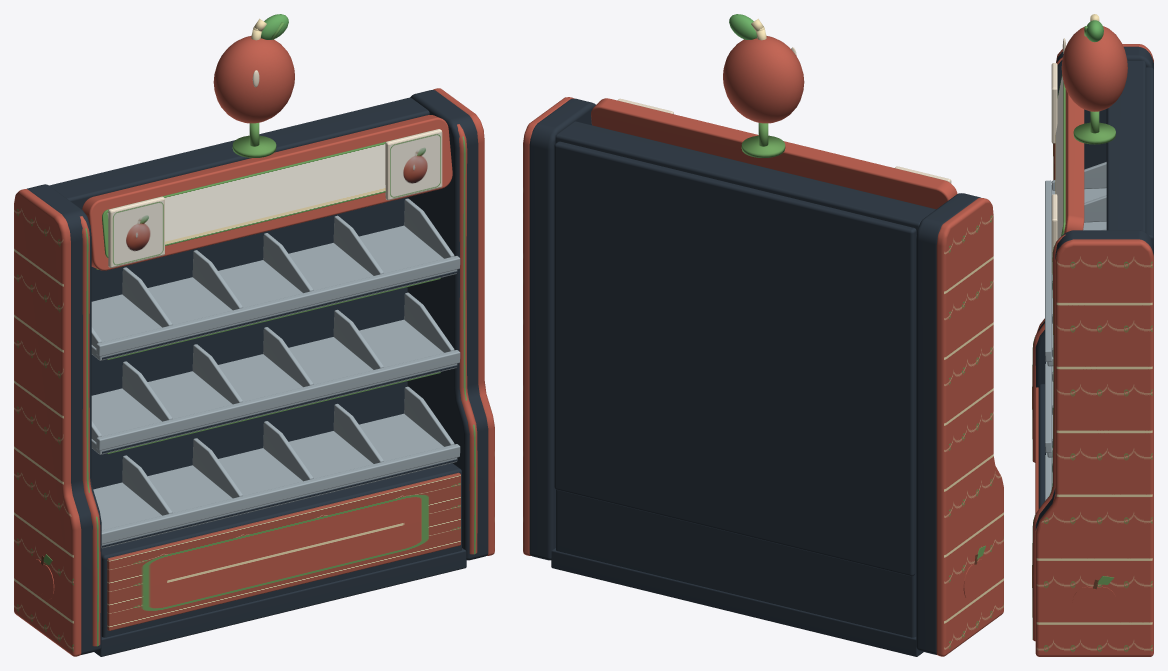
File: TH_FARM.fbx
3 renders of one model, left to right at view 1: azimuth 30°, elevation 25°; view 2: azimuth 150°, elevation 25°; view 3: azimuth 270°, elevation 25°, orthographic. The views are drawn at different scales.
Visible parts, largest first — view 1: BaseFrontInset, Left_PaintedPanel, BackPanel.001, Right_StructuralWall, Tray_01, Tray_02, Tray_03, HeaderFace, HeaderBorder, TopCrossRail, Left_StructuralWall, ClosedSolidBase (+33 smaller); view 2: BackPanel.001, Left_PaintedPanel, ClosedSolidBase, Right_StructuralWall, HeaderBorder, Left_StructuralWall, TopCrossRail, LowerPlinth, Orchard apple, Right_PaintedPanel, TopperMount; view 3: Right_PaintedPanel, TopCrossRail, Orchard apple, HeaderBorder, Left_StructuralWall, HeaderFace, BackPanel.001, RightHousing, FrontLip_01, Right_StructuralWall, ClosedSolidBase, Rounded relief.006 (+14 smaller).
Boxes of the visible parts, x1,y1,x2,y2 form: BaseFrontInset: (107,472,460,630); Left_PaintedPanel: (14,189,81,656); BackPanel.001: (91,197,407,489); Right_StructuralWall: (407,90,488,560); Tray_01: (91,225,457,360); Tray_02: (91,319,457,454); Tray_03: (93,413,457,548); HeaderFace: (102,132,422,257); HeaderBorder: (82,115,452,270); TopCrossRail: (49,97,429,209); Left_StructuralWall: (27,184,101,654); ClosedSolidBase: (101,463,461,637); BackPanel.001: (554,141,916,576); Left_PaintedPanel: (936,198,1003,656); ClosedSolidBase: (556,489,916,637); Right_StructuralWall: (529,98,595,560); HeaderBorder: (591,98,957,209); Left_StructuralWall: (916,193,980,654); TopCrossRail: (555,121,935,234); LowerPlinth: (551,548,923,656); Orchard apple: (723,36,804,123); Right_PaintedPanel: (523,97,574,555); TopperMount: (741,135,785,157); Right_PaintedPanel: (1035,239,1153,656); TopCrossRail: (1106,60,1145,232); Orchard apple: (1061,26,1127,111); HeaderBorder: (1064,89,1084,233); Left_StructuralWall: (1035,46,1153,387); HeaderFace: (1055,74,1065,239); BackPanel.001: (1146,67,1153,245); RightHousing: (1032,234,1065,641); FrontLip_01: (1045,180,1051,361); Right_StructuralWall: (1035,230,1153,530); ClosedSolidBase: (1038,384,1044,508); Rounded relief.006: (1072,586,1101,619).
Size of the model in its own units: 3.62 by 4.64 by 0.9273.
